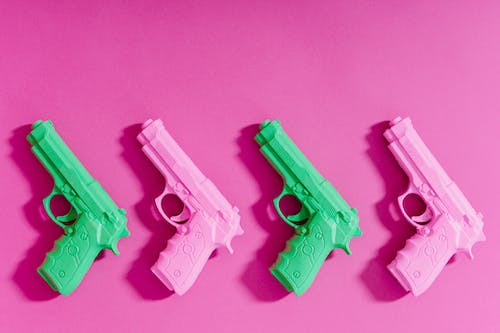gun: (250, 115, 365, 298), (377, 113, 488, 300), (133, 116, 246, 297), (23, 116, 131, 296)
